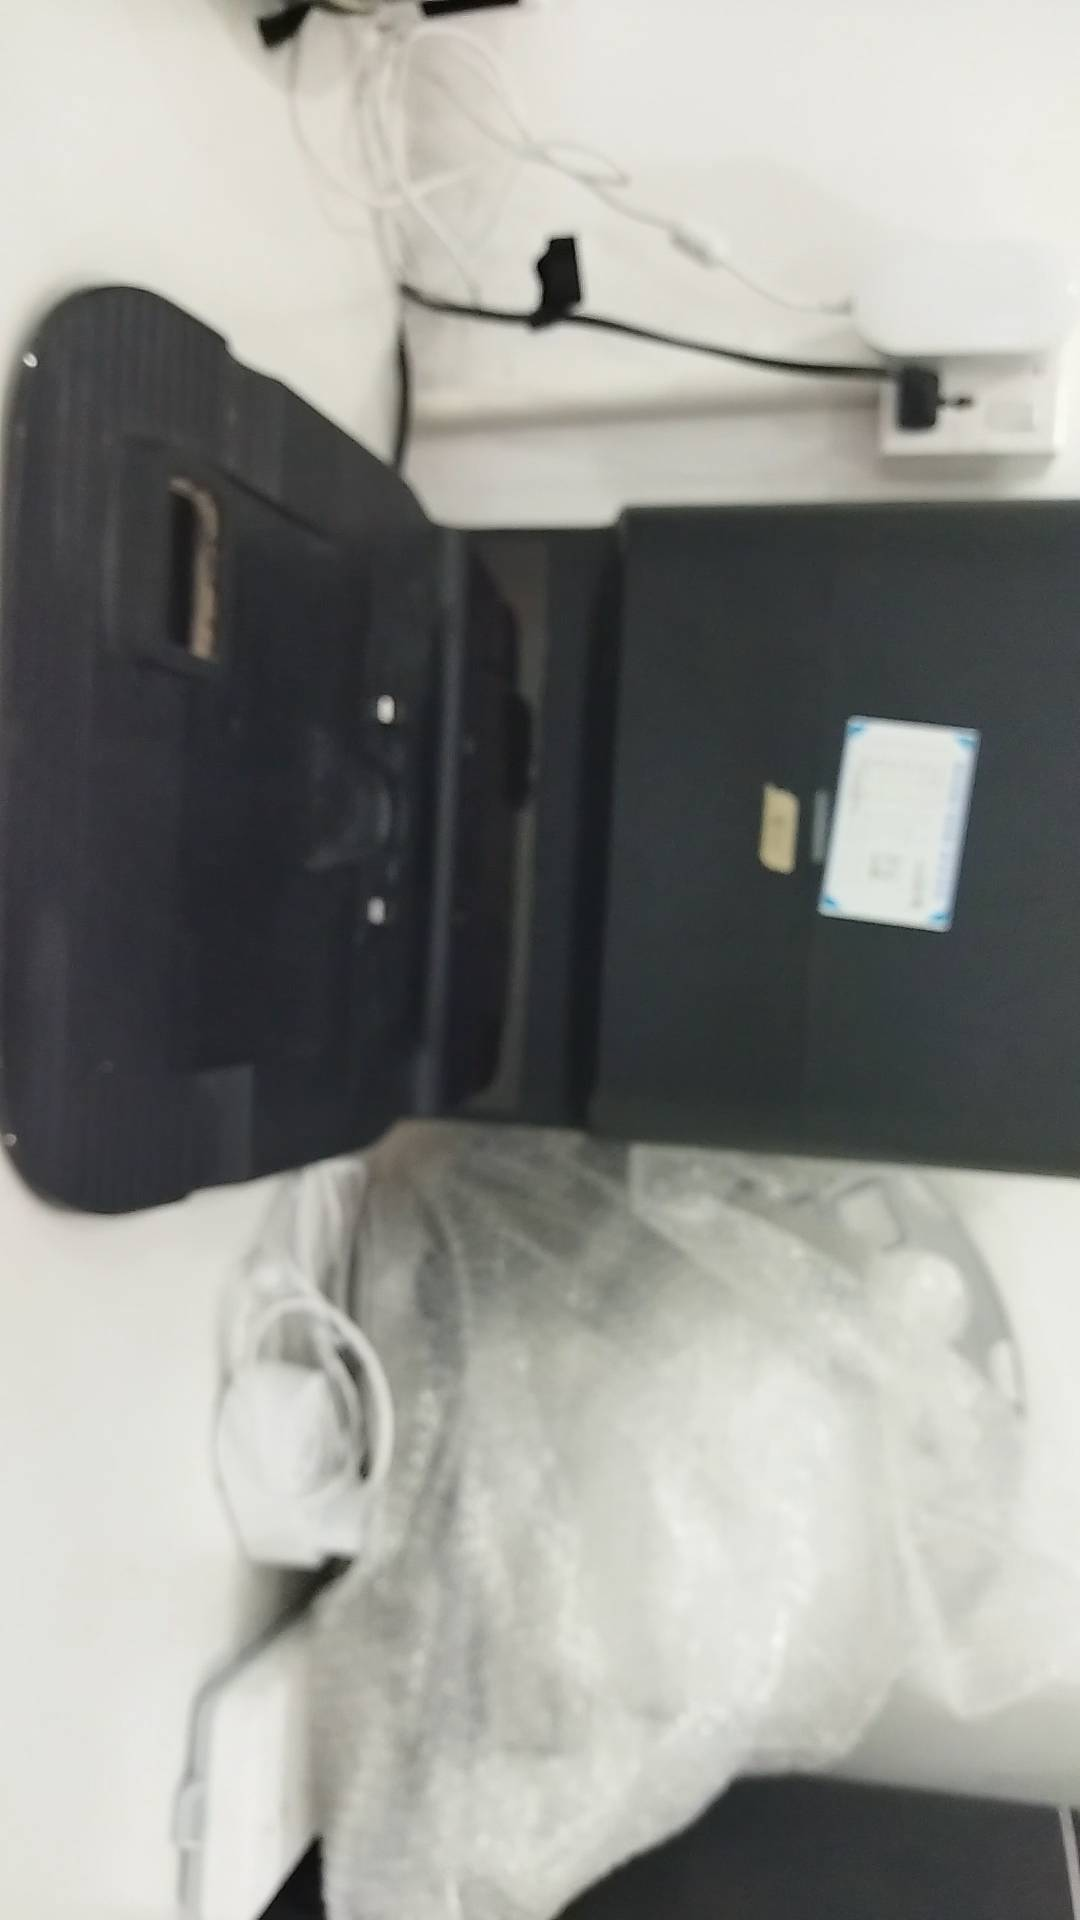dust collecting barrel: (8, 281, 1080, 1232)
